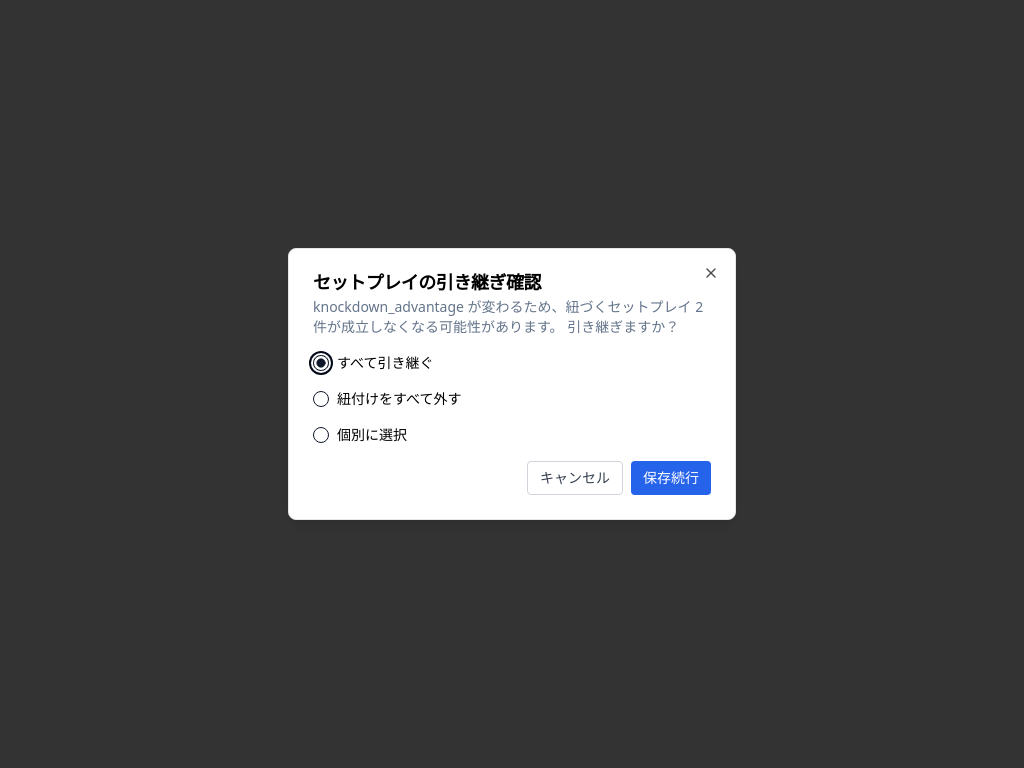
Test: KnockdownAdvantageChangeModal › individual 選択でチェックボックスリスト表示
Click the text "個別に選択" at (360, 434), box 313,425 -> 407,444
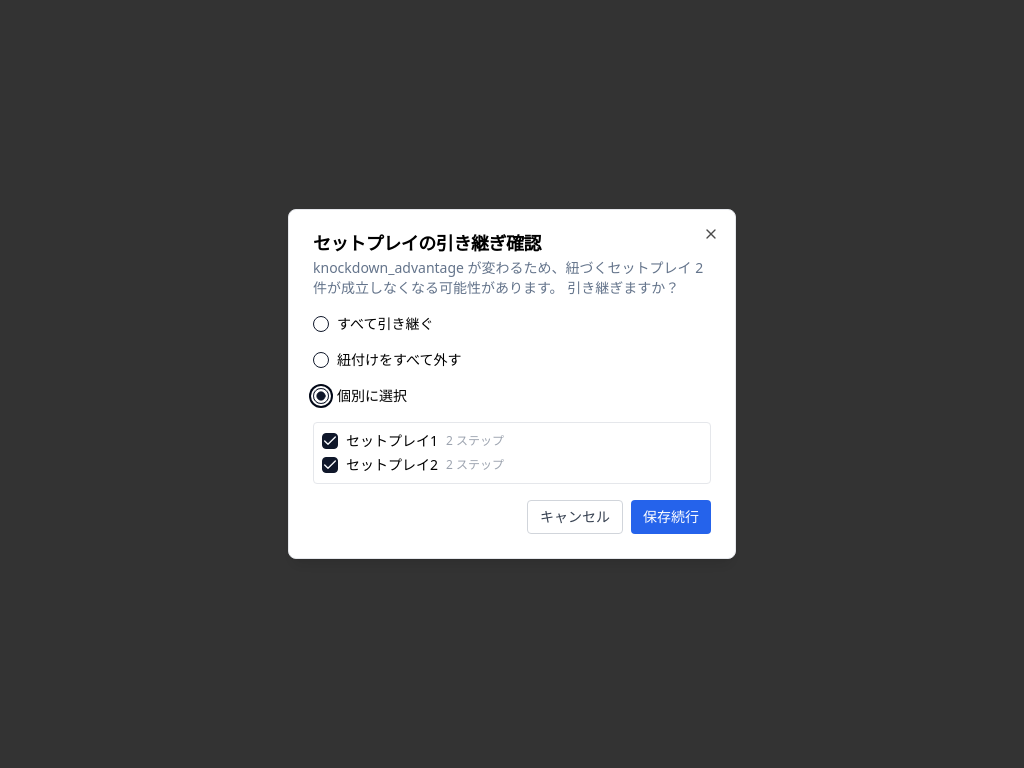
Result: the text "セットプレイ1" is shown at 346,431 -> 438,451
Result: the text "セットプレイ2" is shown at 346,455 -> 438,475
